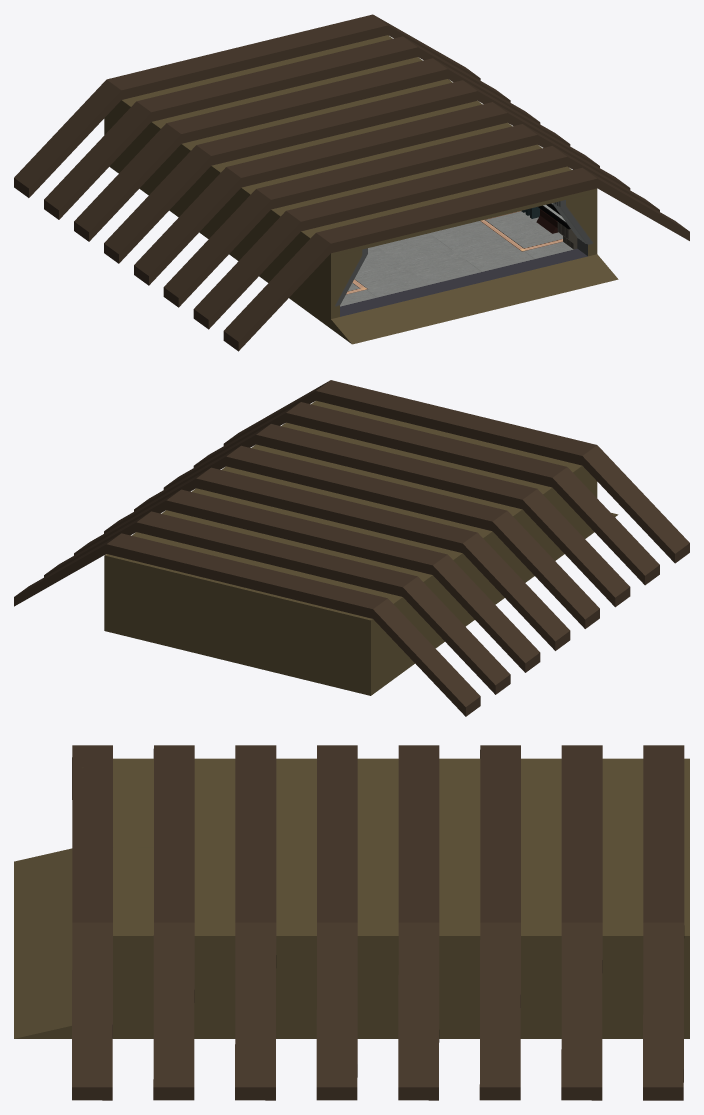
The model's file is SSCHangar2.fbx.
3 renders of one model, top to bottom at view 1: azimuth 30°, elevation 25°; view 2: azimuth 150°, elevation 25°; view 3: azimuth 270°, elevation 25°, orthographic. The views are drawn at different scales.
Visible parts, largest first — view 1: SSCHangar2_Ext_LOD0, SSCHangar2_Int_LOD0; view 2: SSCHangar2_Ext_LOD0; view 3: SSCHangar2_Ext_LOD0.
Boxes of the visible parts, x1,y1,x2,y2 form: SSCHangar2_Ext_LOD0: (14, 14, 689, 351); SSCHangar2_Int_LOD0: (331, 188, 597, 318); SSCHangar2_Ext_LOD0: (14, 380, 689, 716); SSCHangar2_Ext_LOD0: (14, 745, 689, 1100).
Size of what is drawn, in the model's own units: 24418 by 4400 by 23200.
